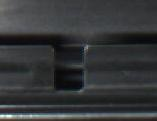oneu: (44, 39, 95, 99)
